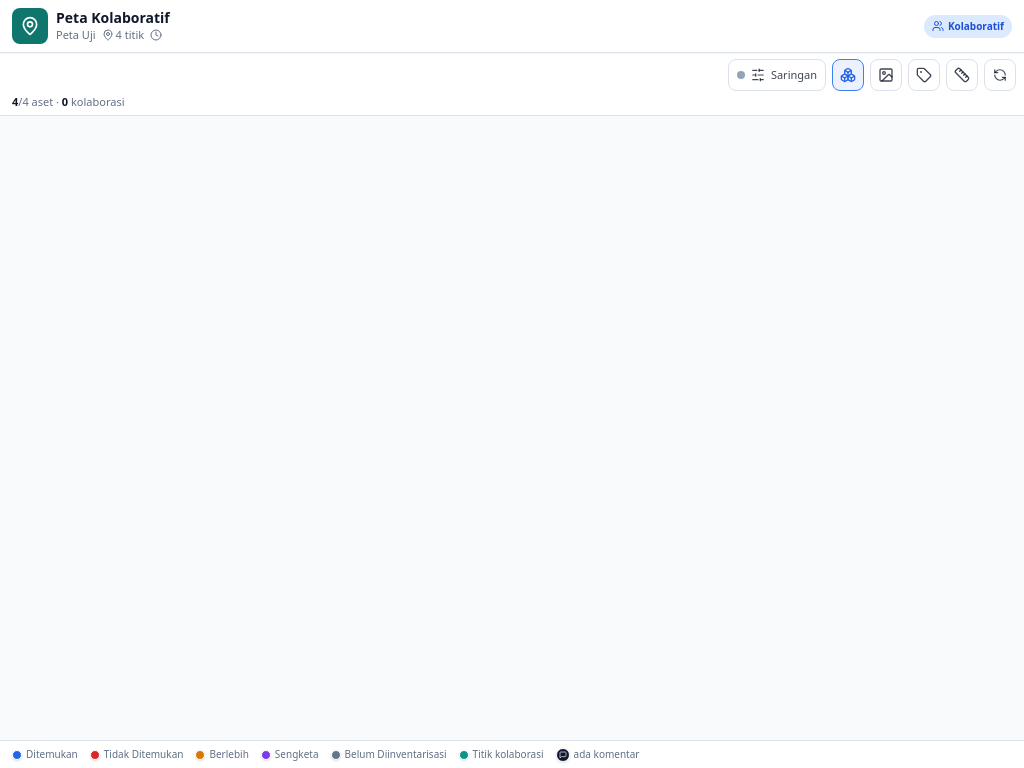
tamu mencari lokasi/kode tanpa fetch baru, pilihan tetap AND, dan reset mengosongkan pencarian
Click the button with test id "peta-kolab-filter" at (777, 75), box [728,59,826,91]
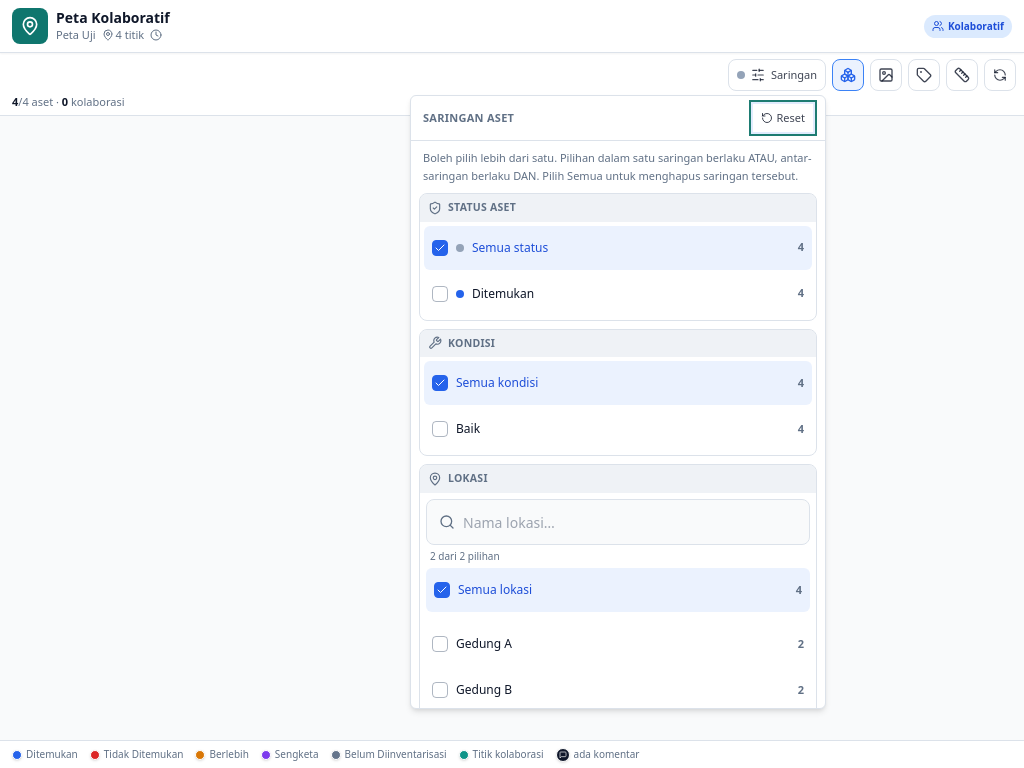
Type "gedung b" into the search field named "Cari lokasi" at (610, 522), box [463,500,757,544]
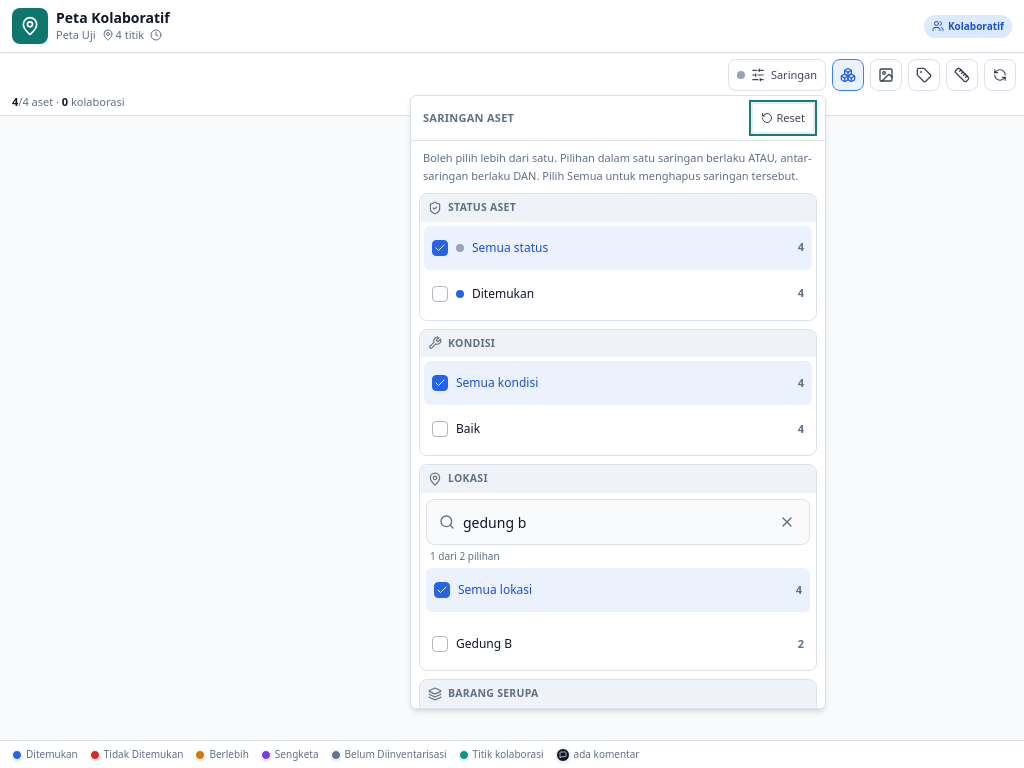
Check: the button "Gedung A" is gone
Click the button "Gedung B 2" at (484, 644), box [424,622,812,666]
(page scrolled)
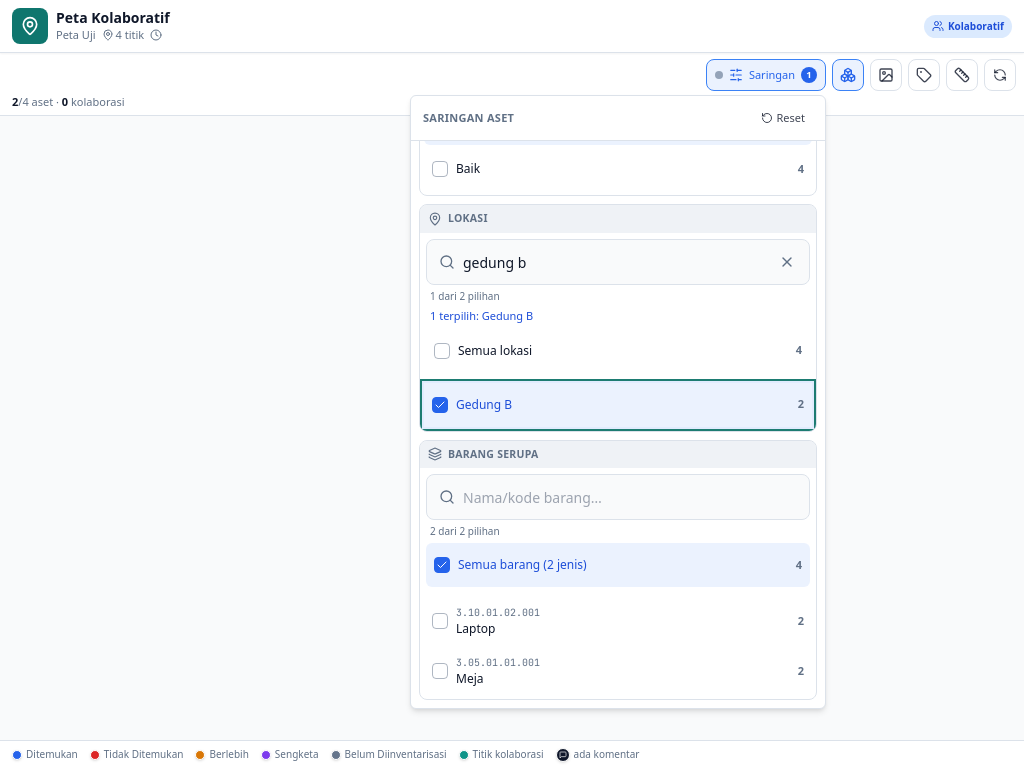
Type "3100102001" into the search field named "Cari barang serupa" at (610, 497), box [463,475,757,519]
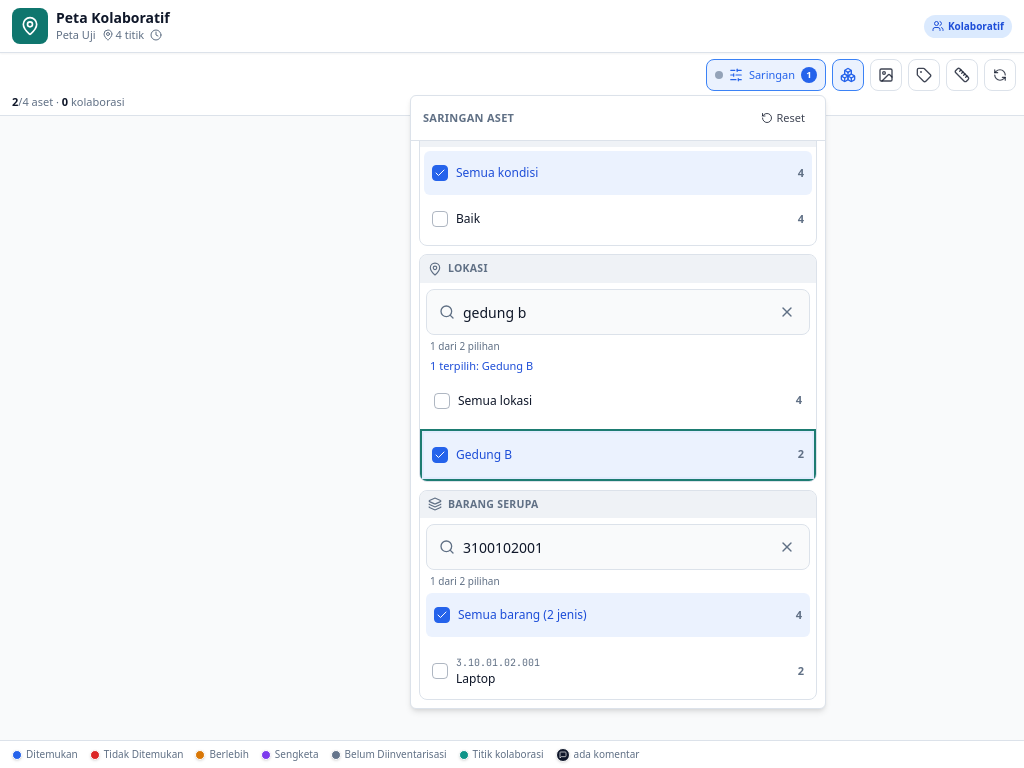
Click the button "3.10.01.02.001 Laptop 2" at (498, 663), box [424,647,812,695]
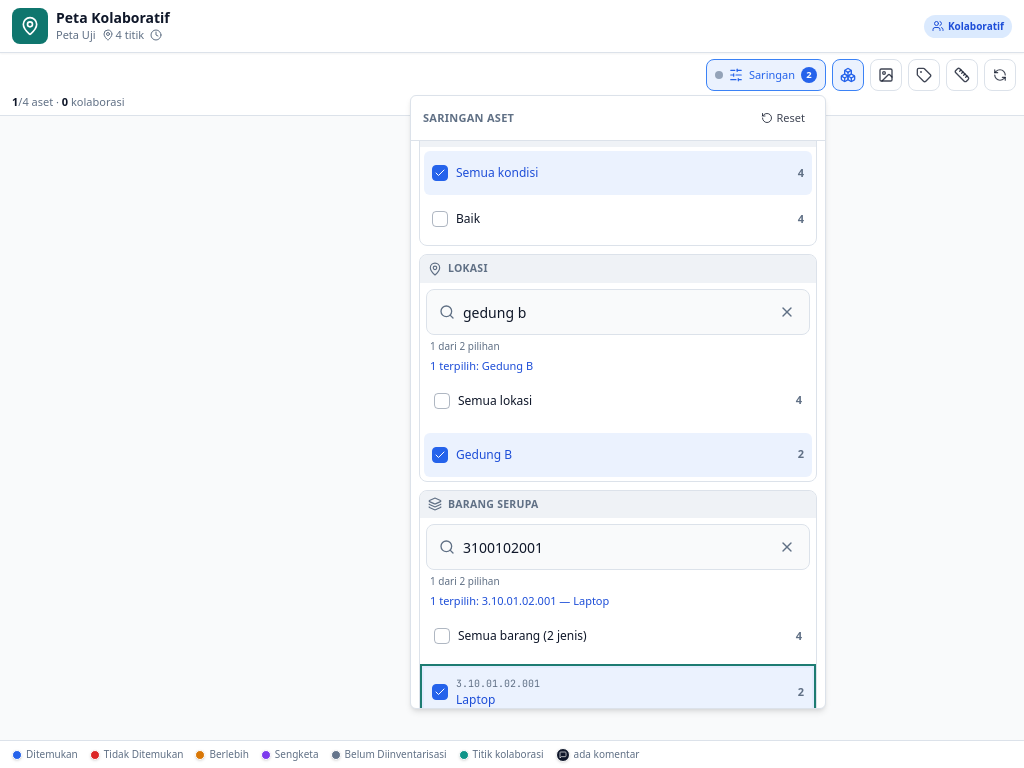
Check: the text with test id "peta-filter-lokasi-terpilih" shows "Gedung B", box [482,358,533,373]
Click the button with test id "peta-kolab-filter-reset" at (783, 118), box [752,104,813,132]
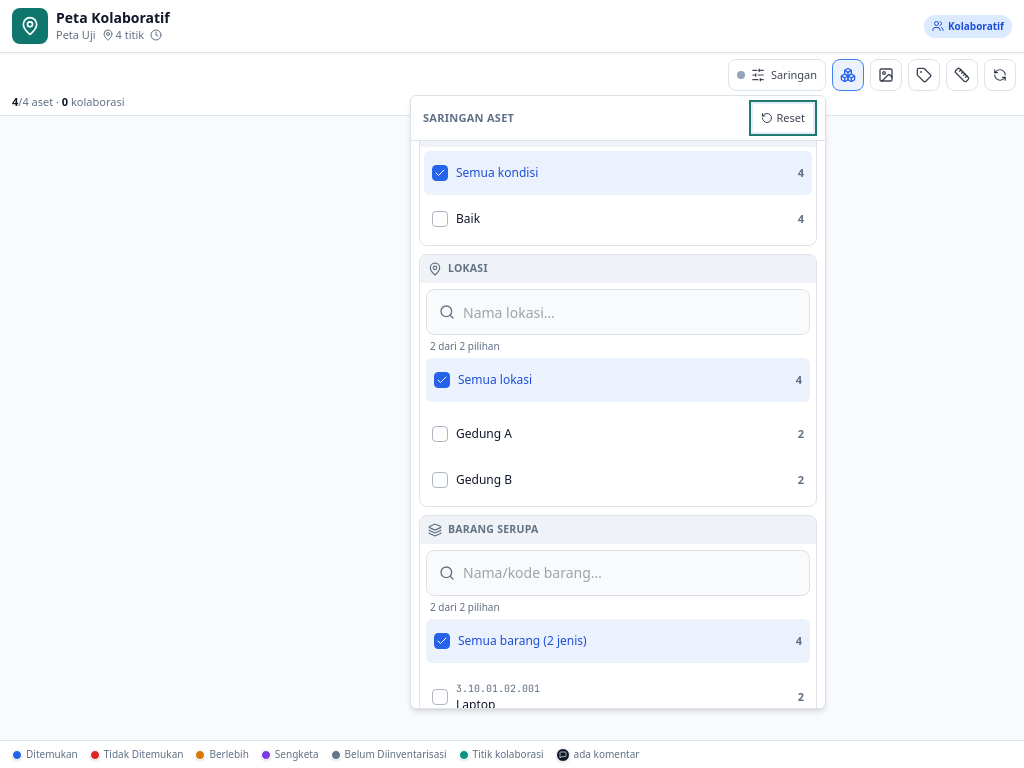
Check: the search field named "Cari lokasi" is empty, box [463,290,757,334]
Check: the search field named "Cari barang serupa" is empty, box [463,551,757,595]
Check: the text with test id "peta-filter-lokasi-terpilih" is gone
